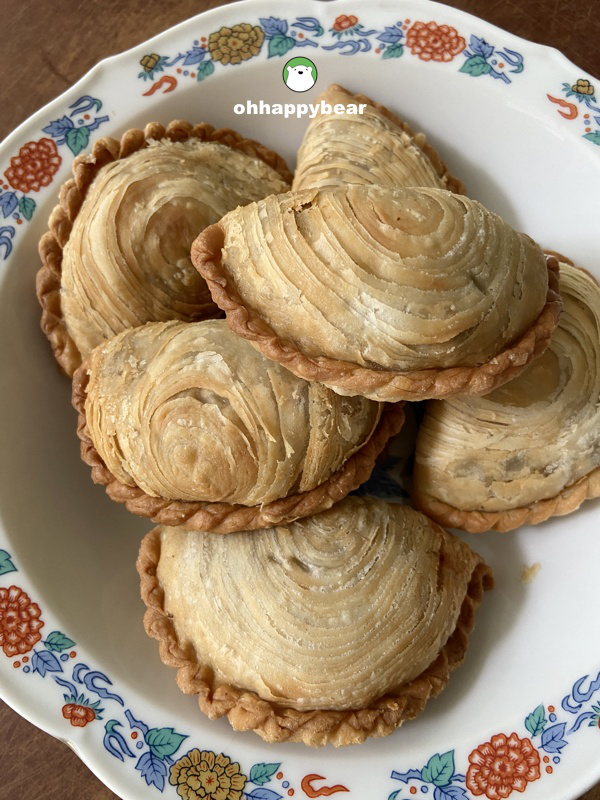Curry Puff: (181, 181, 571, 393), (134, 500, 487, 733), (20, 120, 302, 381), (57, 318, 403, 520), (407, 254, 591, 522)
